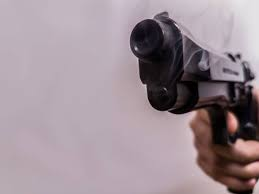gun: (128, 11, 259, 191)
